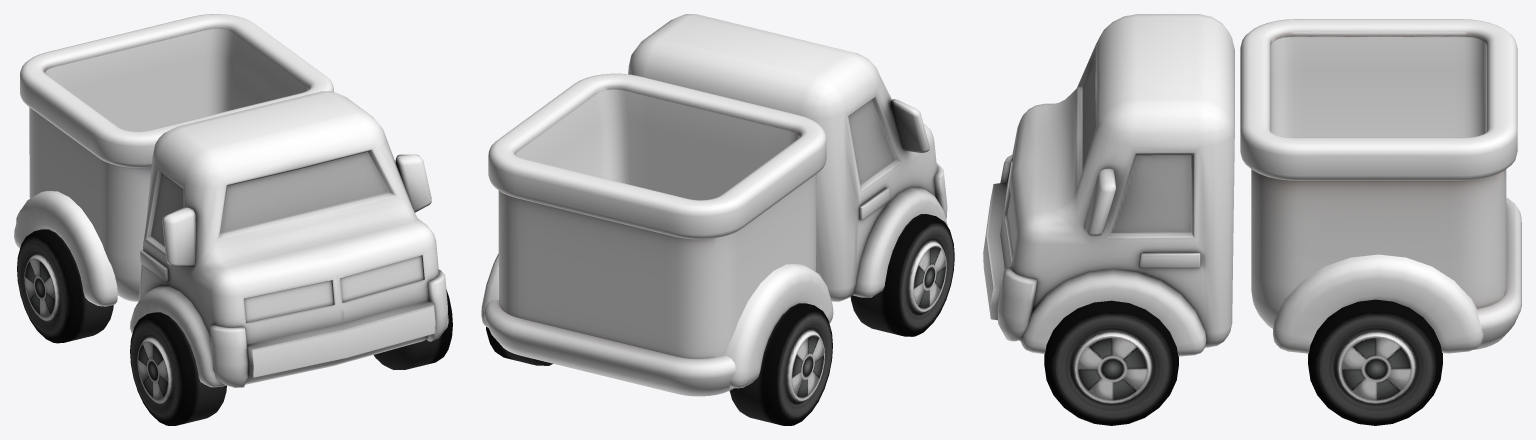
Rendered from bus_inflatable.glb.
The picture shows the model from 3 angles, left to right: view 1: azimuth 30°, elevation 25°; view 2: azimuth 150°, elevation 25°; view 3: azimuth 270°, elevation 25°; orthographic projection. The views are drawn at different scales.
Parts seen in each view (by area): view 1: Cab, CargoBed, WheelsFront, WheelsRear; view 2: CargoBed, Cab, WheelsRear, WheelsFront; view 3: CargoBed, Cab, WheelsRear, WheelsFront.
Boxes of the visible parts, x1,y1,x2,y2 form: Cab: [130, 91, 448, 387]; CargoBed: [14, 14, 333, 306]; WheelsFront: [130, 289, 452, 425]; WheelsRear: [17, 229, 113, 343]; CargoBed: [481, 73, 833, 396]; Cab: [628, 14, 947, 301]; WheelsRear: [486, 303, 832, 425]; WheelsFront: [850, 214, 954, 336]; CargoBed: [1240, 19, 1521, 353]; Cab: [983, 14, 1234, 356]; WheelsRear: [1308, 299, 1442, 425]; WheelsFront: [1044, 300, 1178, 425].
Size of the model in its own units: 1.29 by 1.12 by 1.86.
Materials: 4 (4 with a texture image).
